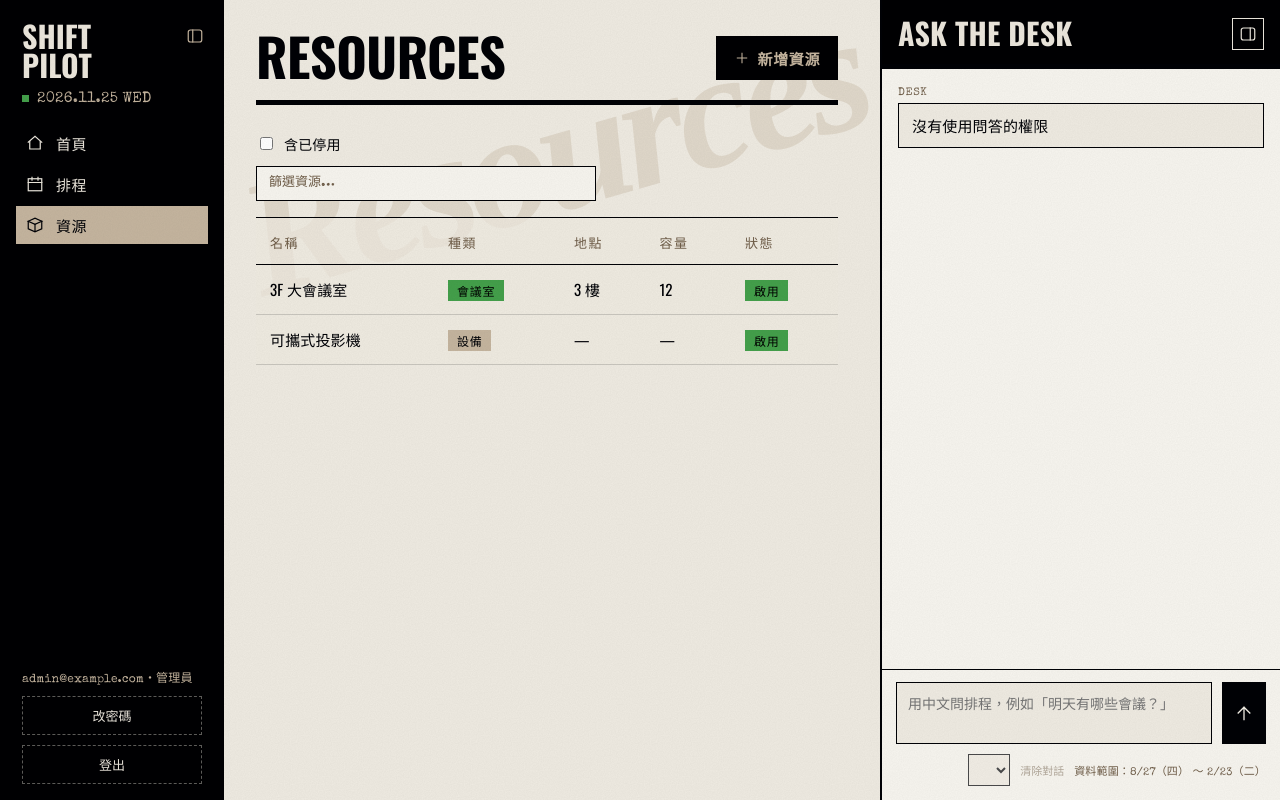
testDuplicateNameShowsServerMessage
Click the button "新增資源" at [777, 58], box [716, 36, 838, 80]
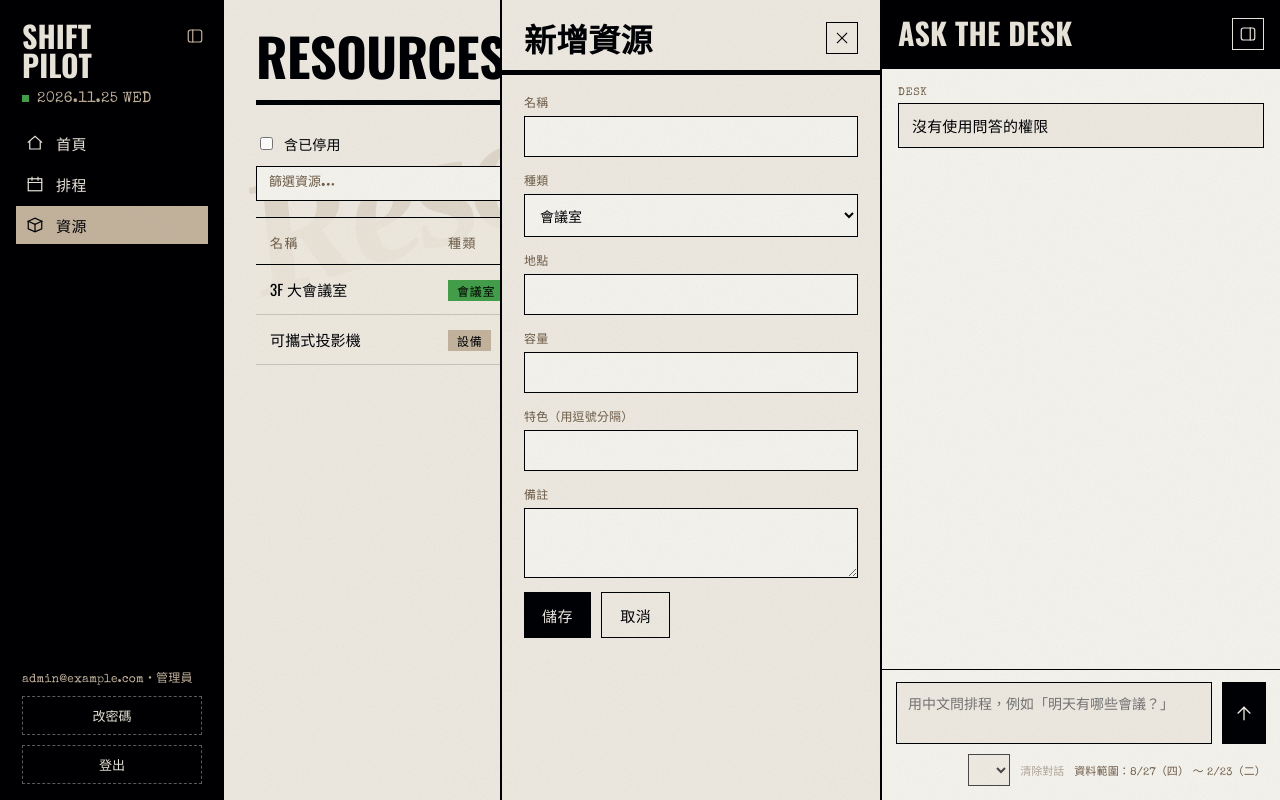
Type "3F 大會議室" into the field labelled "名稱" at [691, 136], box [524, 116, 858, 157]
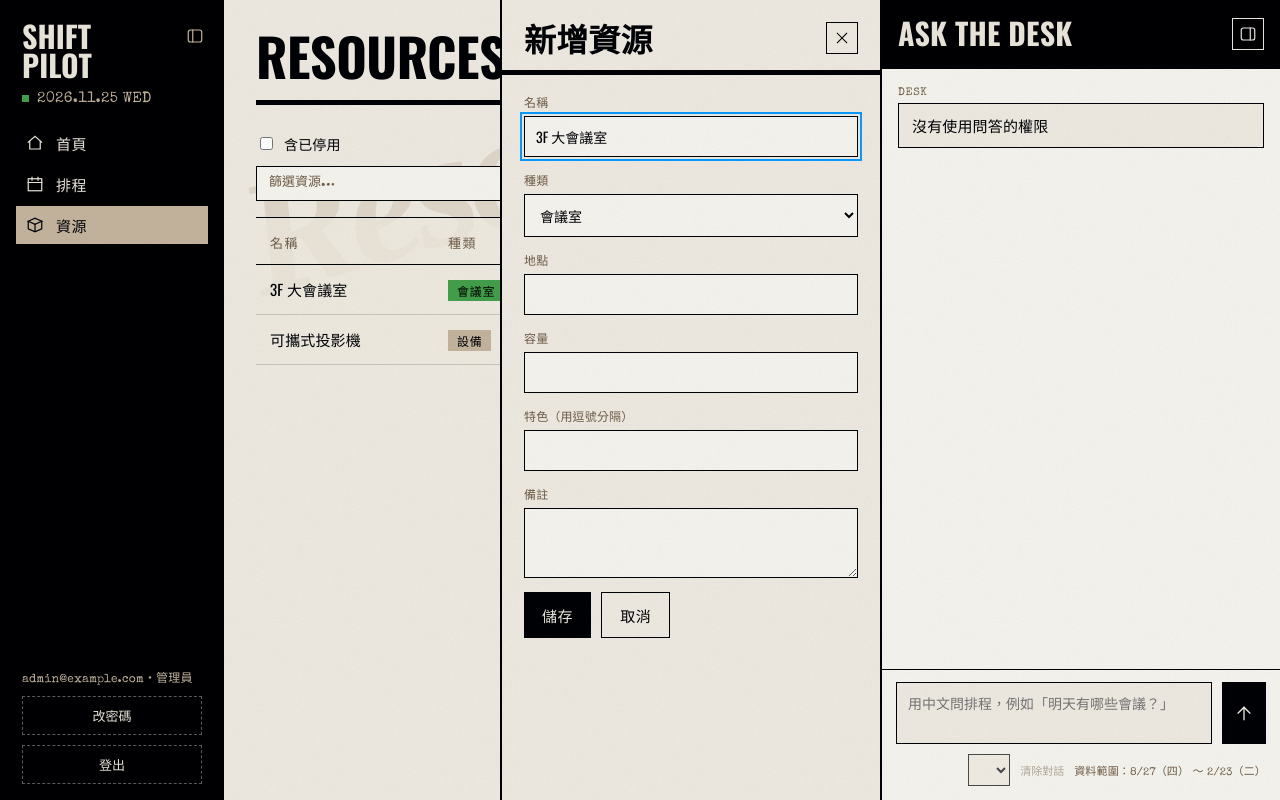
Click the button "儲存" at [558, 615], box [524, 592, 591, 638]
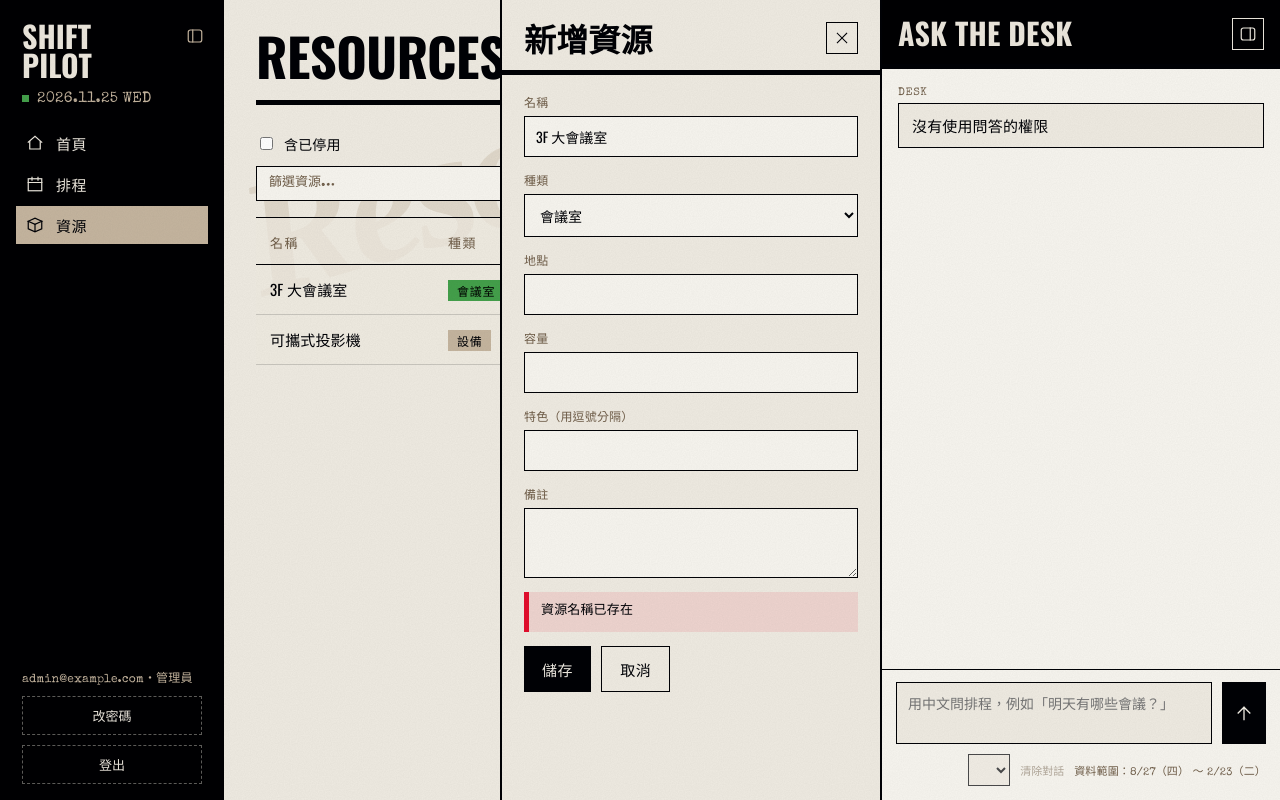
Result: the text "資源名稱已存在" is shown at [524, 592, 858, 632]
